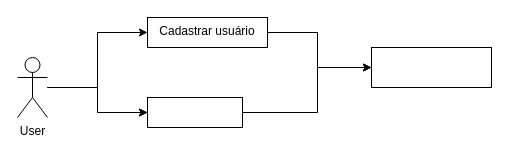
This 509x156 diagram has some shape labels left out. Here are the shapes that lost their labels. From the top down, the centre of each, then its label:
At point (431, 67): "Ver preço do combustivel".
At point (194, 112): "Logar na Web".
